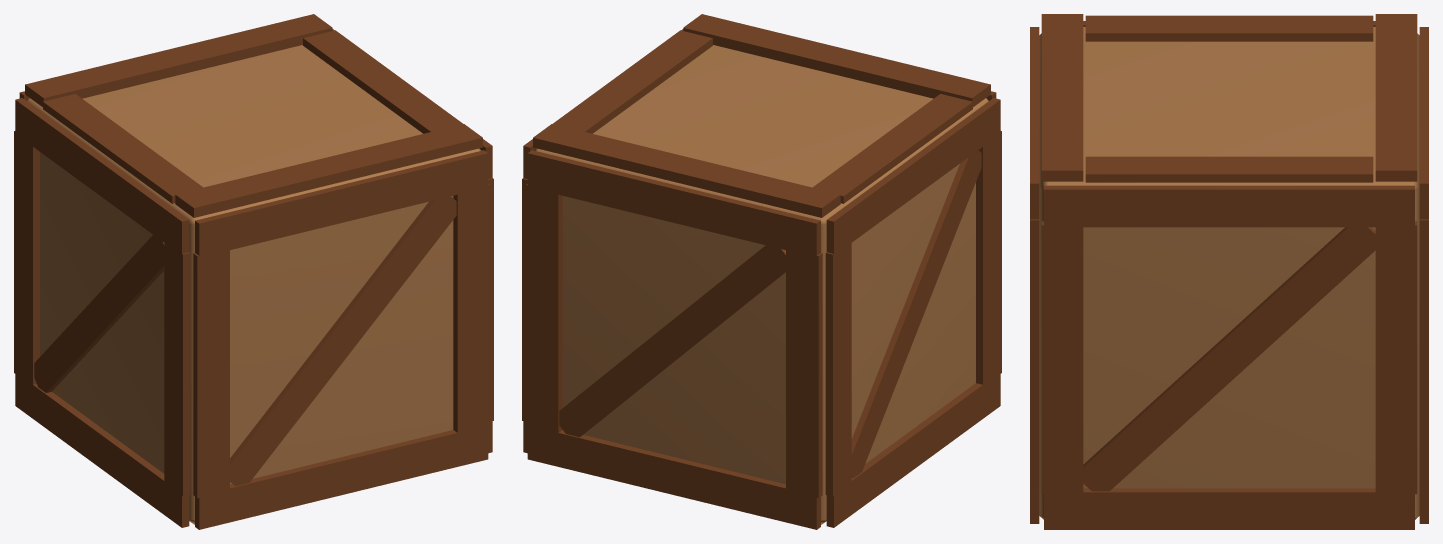
File: tropic-prop2.glb
3 renders of one model, left to right at view 1: azimuth 30°, elevation 25°; view 2: azimuth 150°, elevation 25°; view 3: azimuth 270°, elevation 25°, orthographic. The views are drawn at different scales.
Visible parts, largest first — view 1: tropic-prop2; view 2: tropic-prop2; view 3: tropic-prop2.
Part boxes in pixels (x1,y1,x2,y2): tropic-prop2: (14, 14, 493, 529); tropic-prop2: (522, 14, 1001, 529); tropic-prop2: (1030, 14, 1428, 529).
Bounding box in the file's own units: 0.86 × 0.846 × 0.86.
